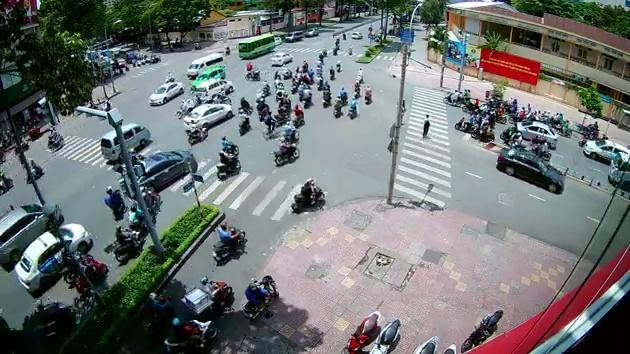xe buyt: (236, 33, 274, 57)
xe dap: (262, 111, 281, 140)
xe hoi: (15, 221, 89, 296), (0, 200, 61, 273), (496, 149, 565, 193), (129, 149, 197, 193), (182, 103, 233, 130), (515, 120, 557, 149), (582, 139, 629, 163), (147, 80, 183, 105), (194, 79, 233, 101), (189, 65, 224, 88), (270, 51, 293, 66)
xe may: (164, 316, 217, 354), (184, 274, 233, 313), (242, 272, 276, 320), (210, 220, 246, 263), (289, 177, 326, 214), (113, 224, 141, 261), (213, 147, 240, 181), (272, 136, 300, 165), (103, 184, 125, 219), (453, 112, 477, 133), (236, 107, 251, 136), (219, 134, 239, 155), (47, 126, 63, 150), (441, 89, 461, 108), (290, 105, 304, 126), (243, 65, 259, 81), (301, 85, 312, 107), (347, 96, 356, 118), (363, 85, 372, 105), (352, 79, 360, 98)
xe van: (100, 121, 150, 163), (185, 52, 223, 77)
